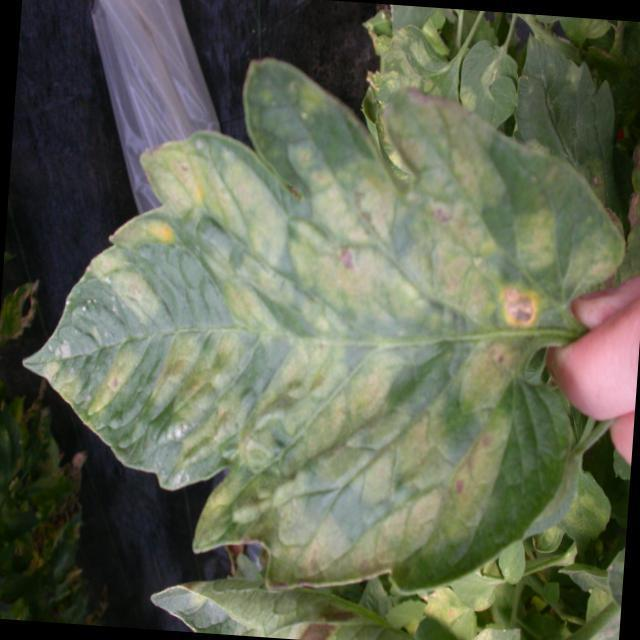Mosaic Virus: (48, 72, 605, 568)
